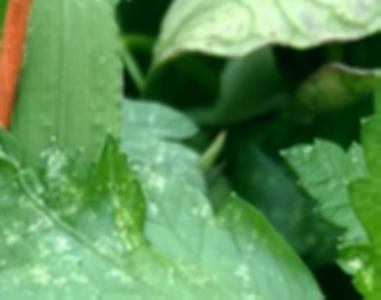Tomato leaf mosaic virus: (0, 131, 381, 300)
